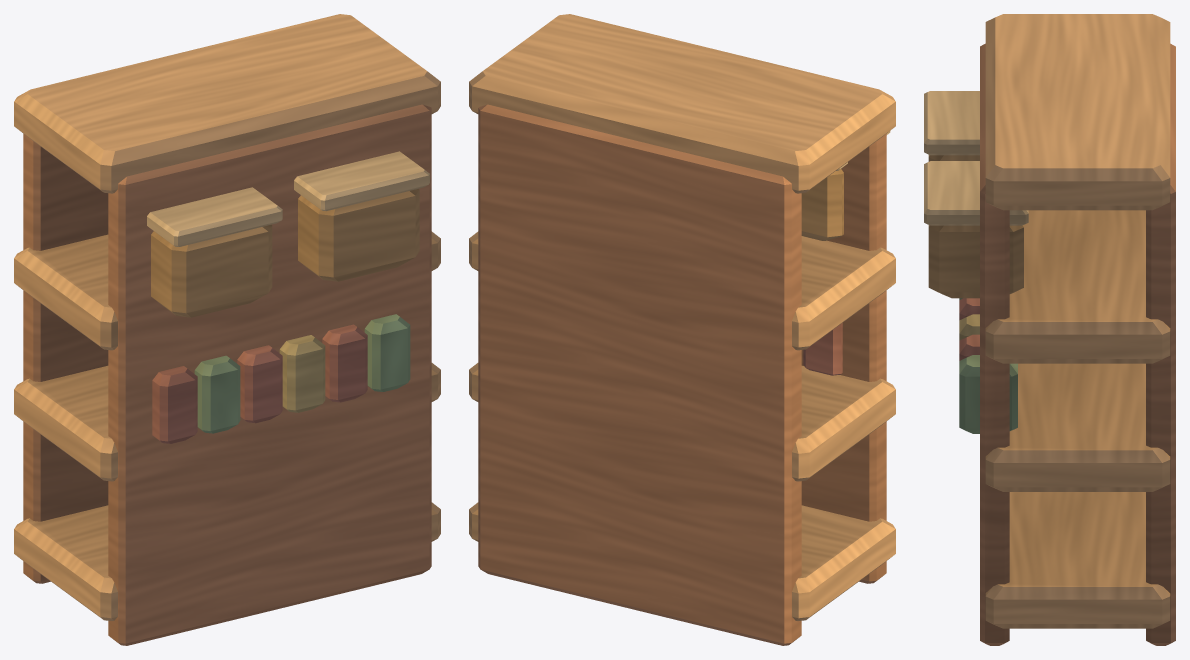
The model's file is furniture_shelf.glb.
3 renders of one model, left to right at view 1: azimuth 30°, elevation 25°; view 2: azimuth 150°, elevation 25°; view 3: azimuth 270°, elevation 25°, orthographic. The views are drawn at different scales.
Parts seen in each view (by area): view 1: Regal mit Körben und Büchern; view 2: Regal mit Körben und Büchern; view 3: Regal mit Körben und Büchern.
Part boxes in pixels (left/top/right/bottom): Regal mit Körben und Büchern: left=14, top=14, right=440, bottom=645; Regal mit Körben und Büchern: left=469, top=14, right=895, bottom=645; Regal mit Körben und Büchern: left=924, top=14, right=1175, bottom=645.
Bounding box in the file's own units: 1.25 × 1.73 × 0.8185.
2 materials, 2 textured.
